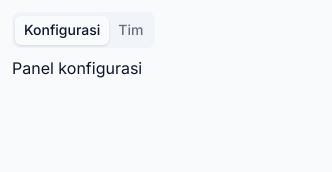
it: Tabs › switches panel and aria-selected when another tab is clicked
Click the tab "Tim" at (131, 30), box [109,16,152,44]
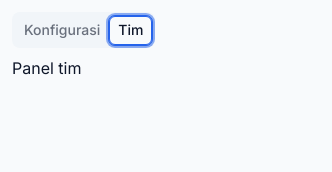
Now the panel reads "Panel tim", box [12,58,82,78]
